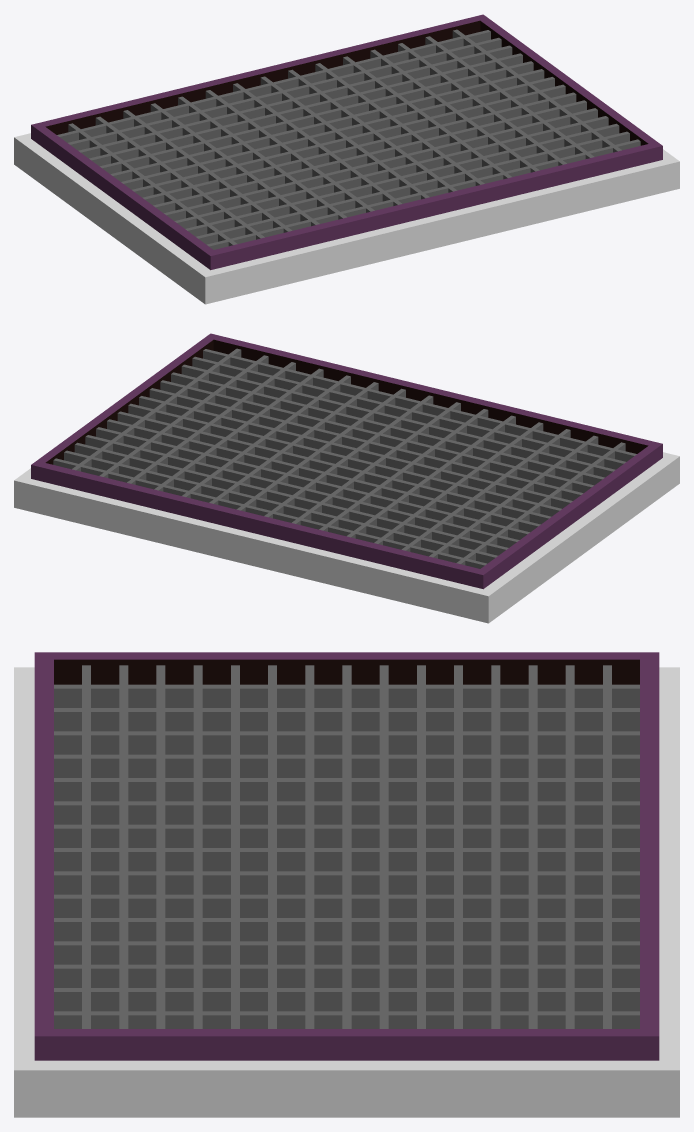
Rendered from water intake.fbx.
The picture shows the model from 3 angles, top to bottom: view 1: azimuth 30°, elevation 25°; view 2: azimuth 150°, elevation 25°; view 3: azimuth 270°, elevation 25°; orthographic projection. The views are drawn at different scales.
Parts seen in each view (by area): view 1: Плоскость; view 2: Плоскость; view 3: Плоскость.
Part boxes in pixels (bbox=[...]): Плоскость: bbox=[14, 14, 679, 304]; Плоскость: bbox=[14, 333, 679, 623]; Плоскость: bbox=[14, 652, 679, 1117].
Bounding box in the file's own units: 404 × 33.57 × 282.
